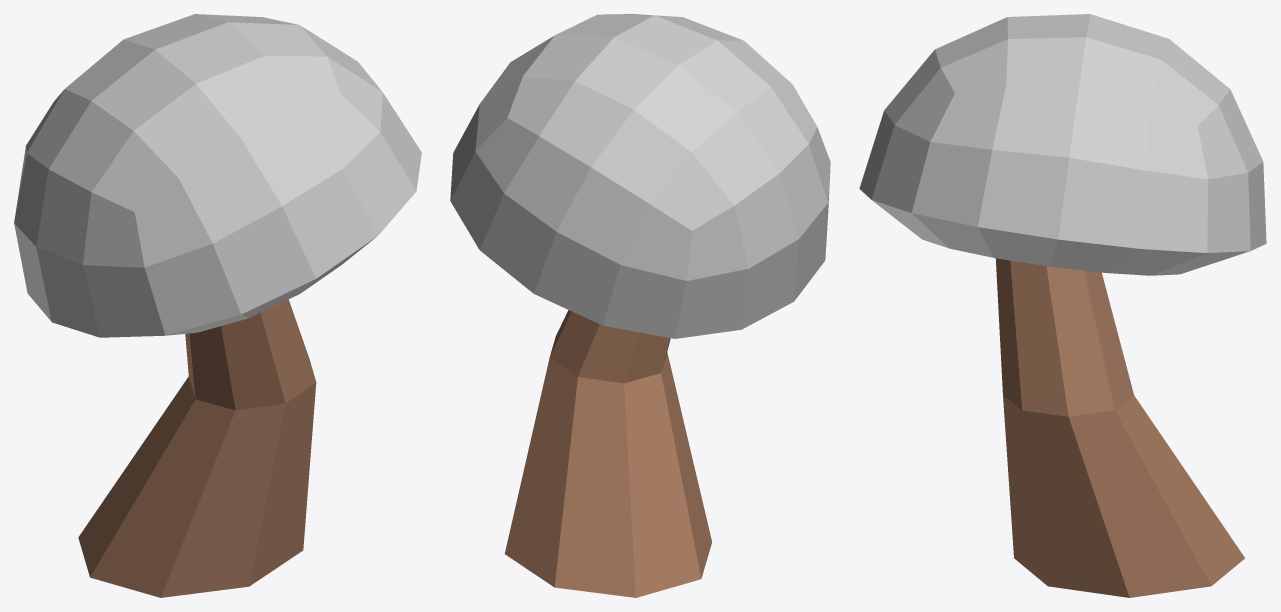
The model's file is mesh_mushroom_02_white.fbx.
3 views of the same model, side by side, from view 1: azimuth 30°, elevation 25°; view 2: azimuth 150°, elevation 25°; view 3: azimuth 270°, elevation 25° (orthographic). The views are drawn at different scales.
Visible parts, largest first — view 1: mesh_mushroom_02_white_LOD0; view 2: mesh_mushroom_02_white_LOD0; view 3: mesh_mushroom_02_white_LOD0.
Part boxes in pixels (x1=…): mesh_mushroom_02_white_LOD0: x1=14, y1=14, x2=421, y2=597; mesh_mushroom_02_white_LOD0: x1=450, y1=14, x2=830, y2=597; mesh_mushroom_02_white_LOD0: x1=859, y1=14, x2=1266, y2=597.
Size of what is drawn, in the model's own units: 0.2644 by 0.3907 by 0.2681.
